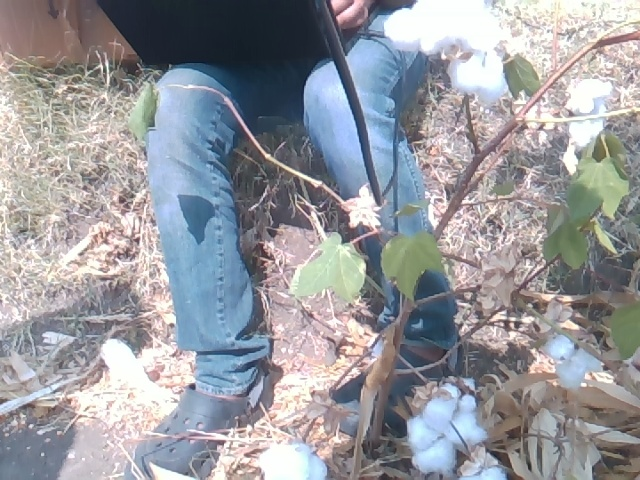cotton: (382, 2, 509, 102), (402, 378, 511, 480), (562, 76, 614, 151), (544, 333, 604, 394), (252, 440, 330, 479)
